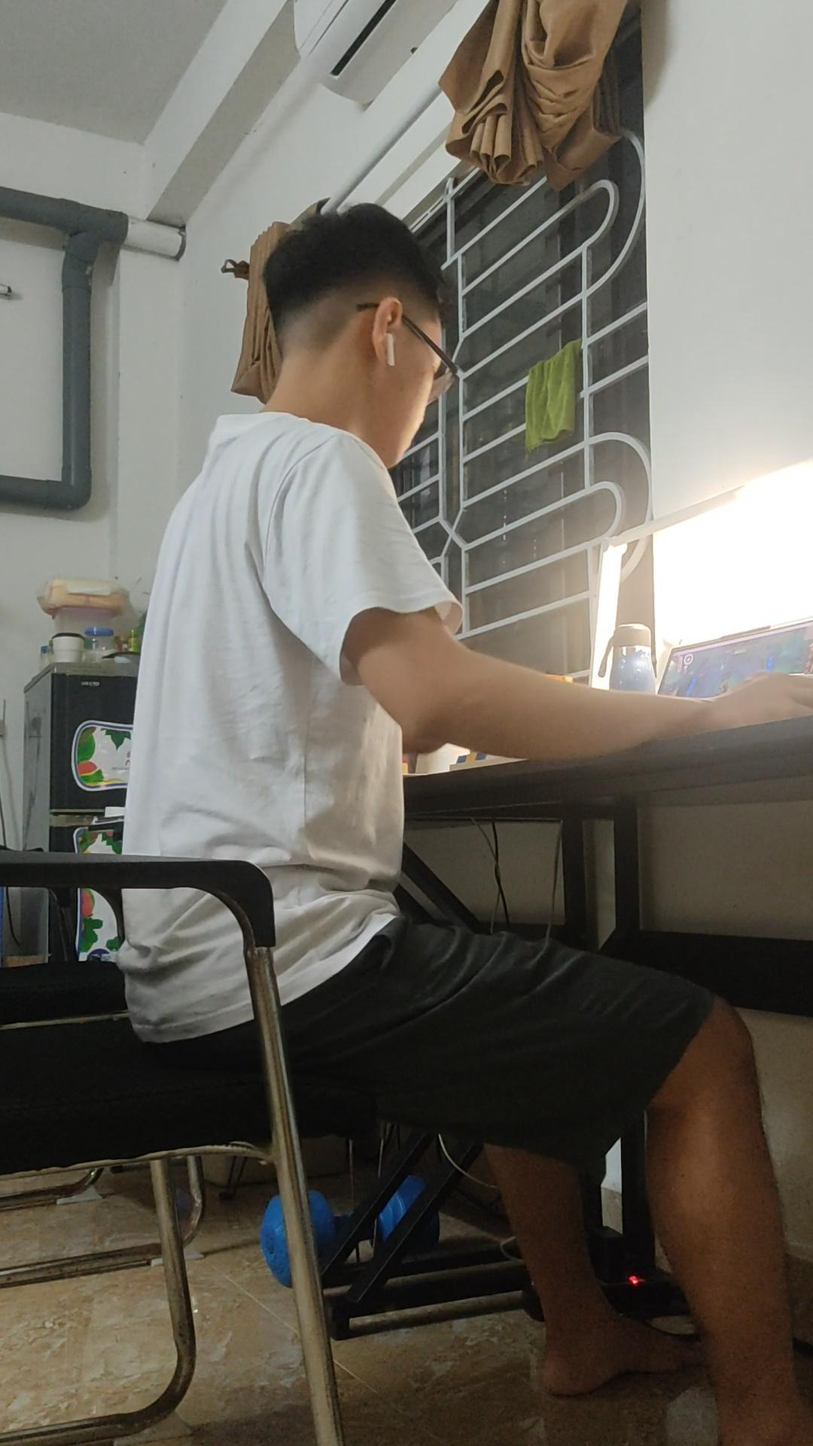GoodPosture: (124, 206, 812, 1445)
